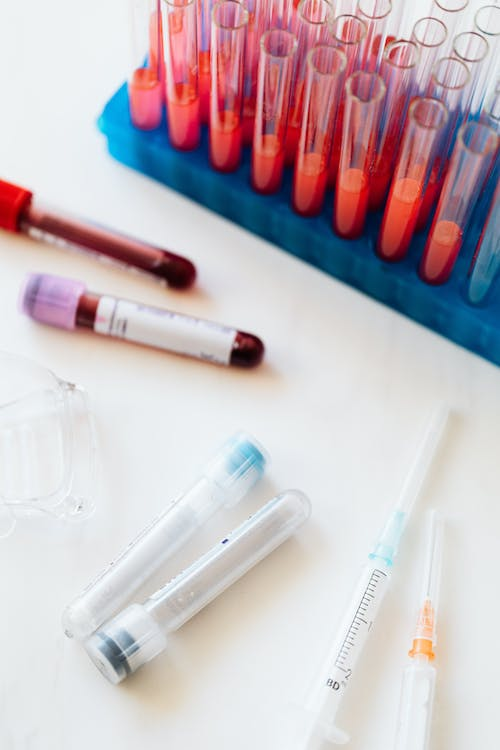blood: (22, 201, 198, 296), (76, 292, 267, 372), (415, 119, 500, 289), (375, 96, 449, 263), (290, 43, 348, 219), (331, 70, 387, 238), (250, 28, 299, 192), (207, 0, 251, 174), (159, 0, 202, 153), (126, 0, 165, 133)
